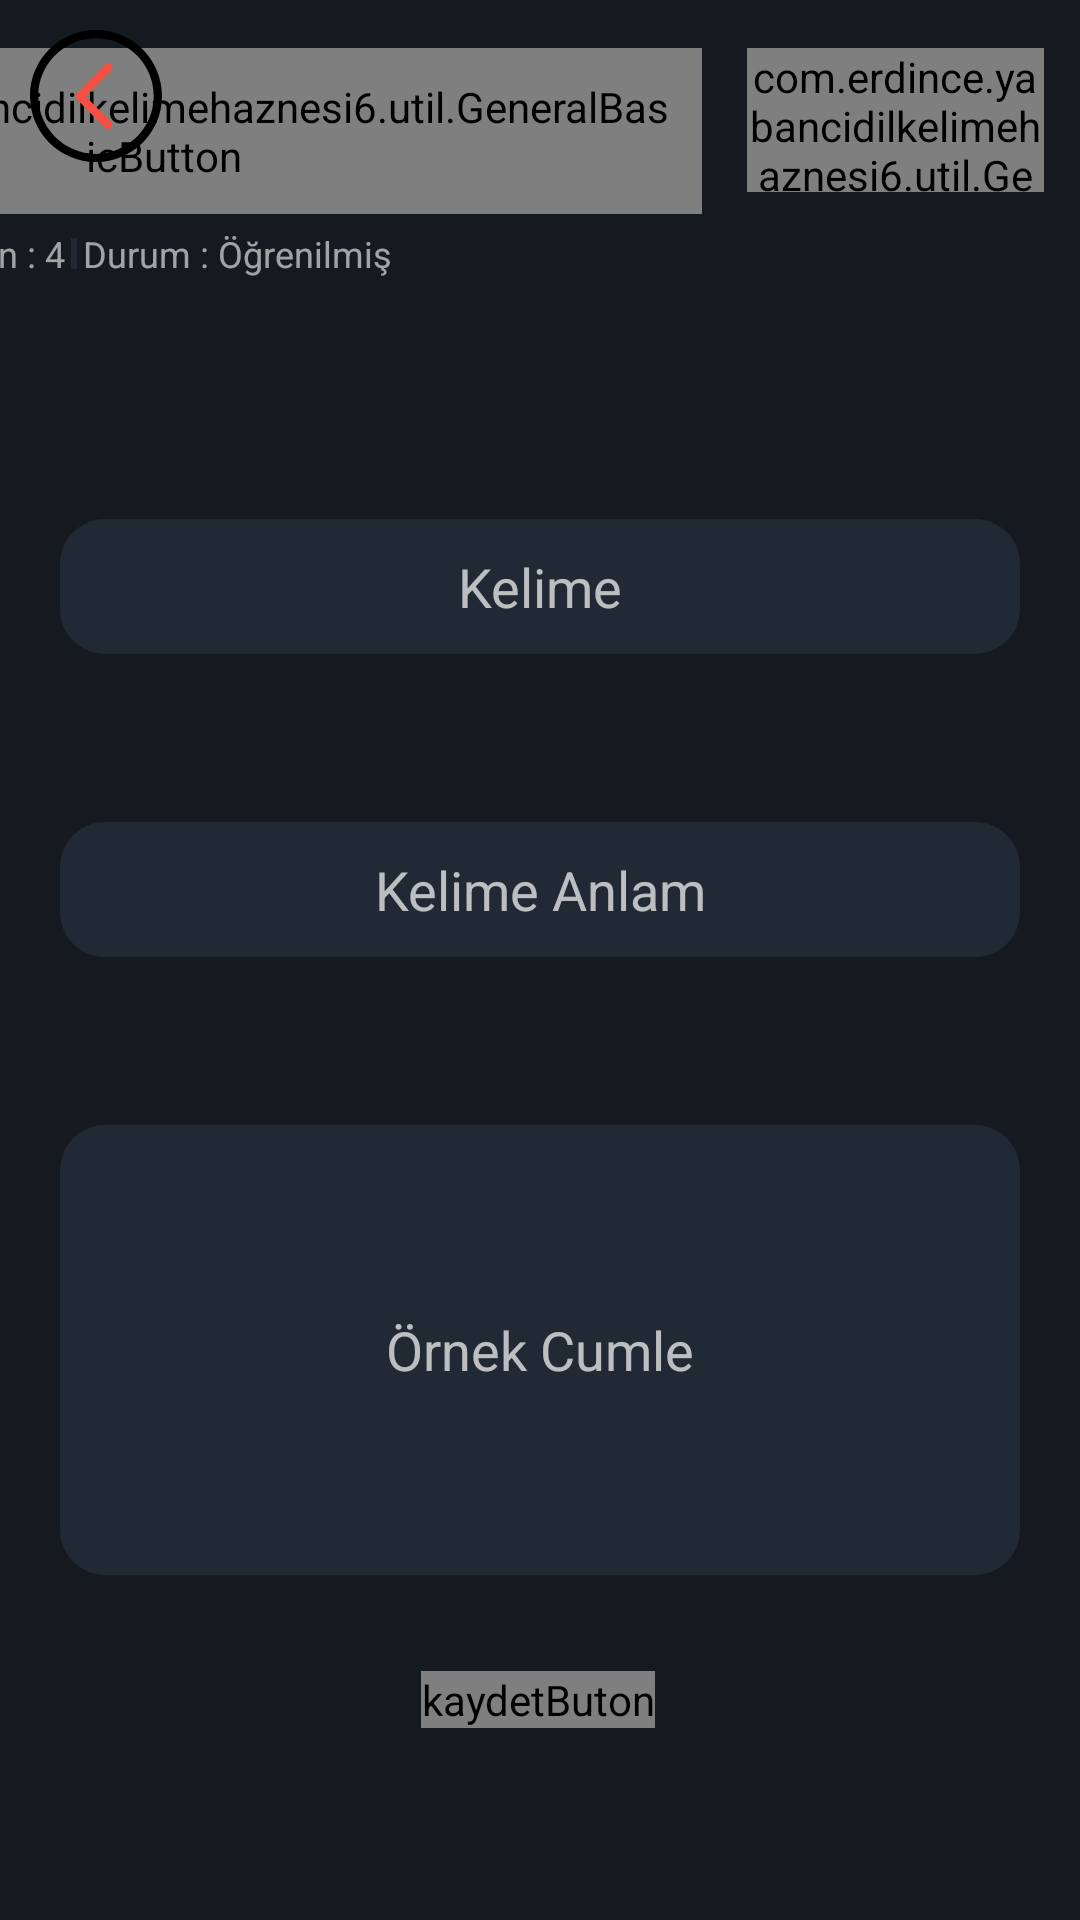

Screen size 1080w x 1920h. Icon name, then its center in pixels as (x=x, y=y):
back: (x=96, y=96)
